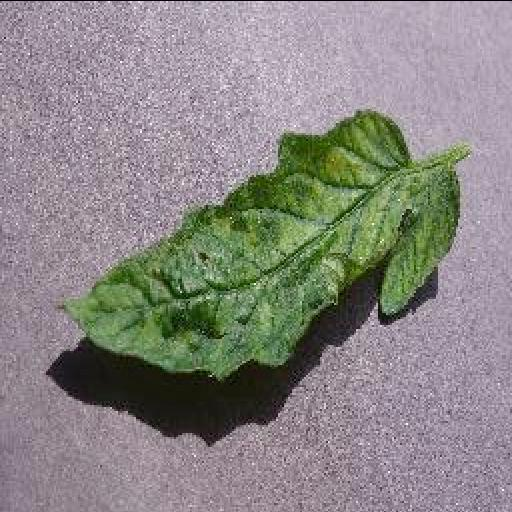disease_tomato: (58, 108, 460, 378)
